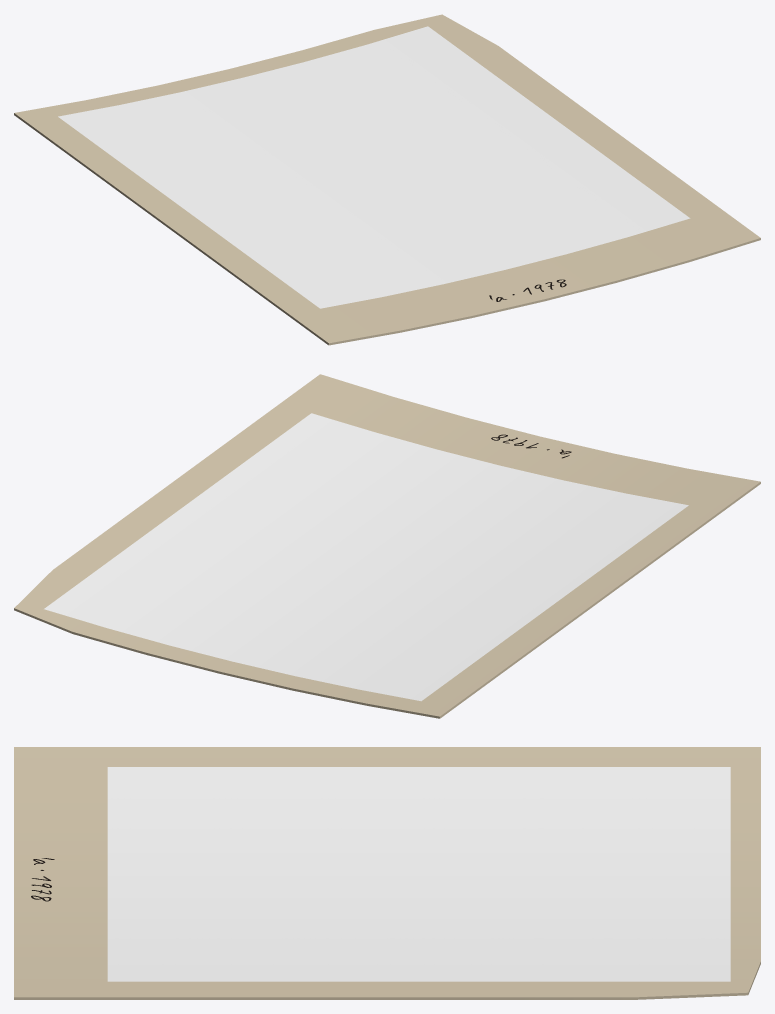
File: photo_print.glb
3 views of the same model, one above another, from view 1: azimuth 30°, elevation 25°; view 2: azimuth 150°, elevation 25°; view 3: azimuth 270°, elevation 25° (orthographic). The views are drawn at different scales.
Visible parts, largest first — view 1: photo_print; view 2: photo_print; view 3: photo_print.
Boxes of the visible parts, x1,y1,x2,y2 form: photo_print: (14, 14, 760, 345); photo_print: (14, 374, 760, 718); photo_print: (14, 747, 760, 999).
Size of the model in its own units: 0.0841 by 0.00199 by 0.106.
